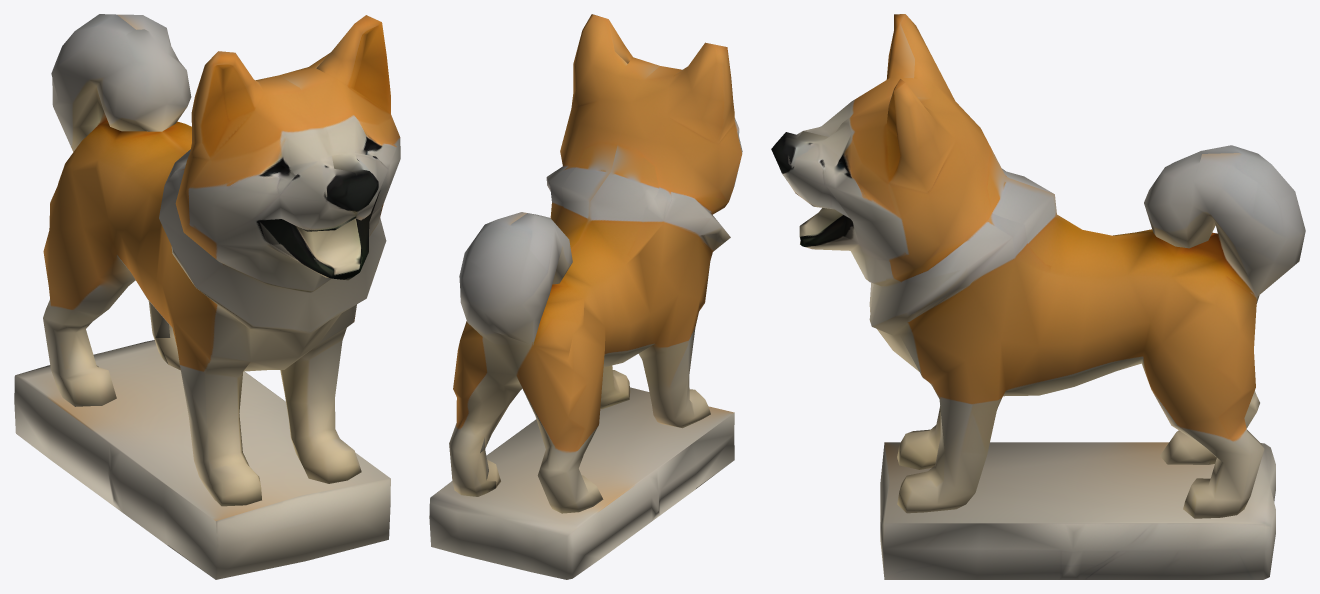
Rendered from lil_dog.glb.
3 views of the same model, side by side, from view 1: azimuth 30°, elevation 25°; view 2: azimuth 150°, elevation 25°; view 3: azimuth 270°, elevation 25° (orthographic). The views are drawn at different scales.
Parts seen in each view (by area): view 1: texture_pbr_v128; view 2: texture_pbr_v128; view 3: texture_pbr_v128.
Part boxes in pixels (x1,y1,x2,y2): texture_pbr_v128: (14,14,400,579); texture_pbr_v128: (429,14,742,579); texture_pbr_v128: (771,14,1305,579).
Bounding box in the file's own units: 0.3798 × 0.8897 × 0.8758.
Materials: 1 (1 with a texture image).
